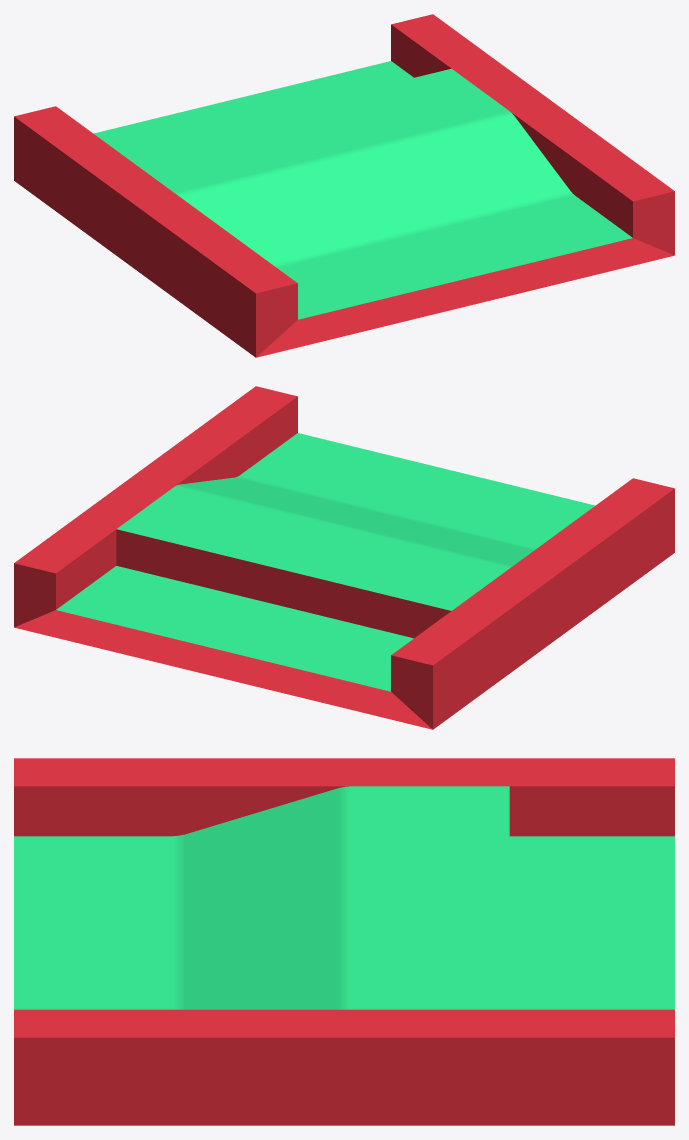
The model's file is rampSquare.fbx.
The picture shows the model from 3 angles, top to bottom: view 1: azimuth 30°, elevation 25°; view 2: azimuth 150°, elevation 25°; view 3: azimuth 270°, elevation 25°; orthographic projection. The views are drawn at different scales.
Visible parts, largest first — view 1: rampSquare; view 2: rampSquare; view 3: rampSquare.
Part boxes in pixels (x1,y1,x2,y2): rampSquare: (14, 14, 674, 357); rampSquare: (14, 386, 674, 729); rampSquare: (14, 758, 674, 1125).
Bounding box in the file's own units: 99.99 × 99.99 × 14.67.
